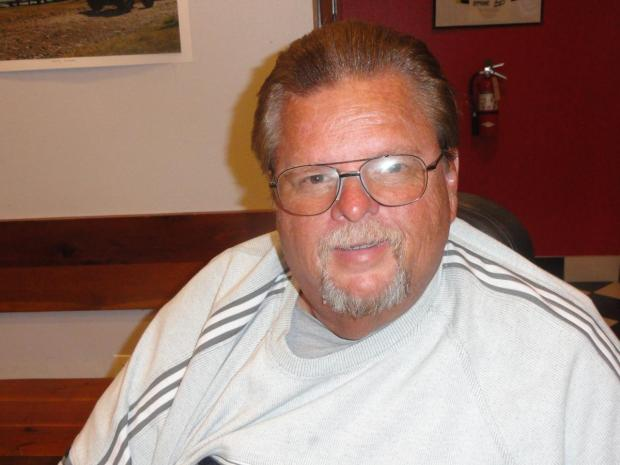stroke: (274, 112, 423, 296)
